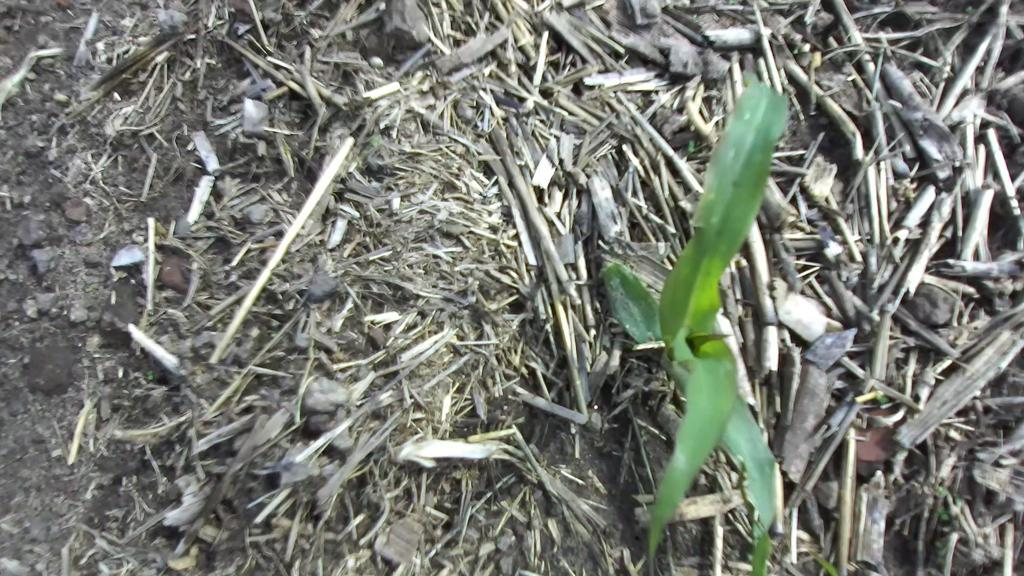BroWeed: (803, 50, 825, 113), (792, 41, 813, 58), (151, 220, 169, 239), (369, 126, 384, 148), (873, 390, 888, 406), (934, 485, 949, 500), (936, 504, 949, 521), (934, 540, 946, 557), (83, 282, 100, 293), (955, 492, 962, 512), (964, 5, 976, 16), (687, 139, 696, 153), (634, 97, 646, 107), (144, 369, 154, 380), (639, 430, 648, 442)
Maize: (593, 56, 789, 576)
